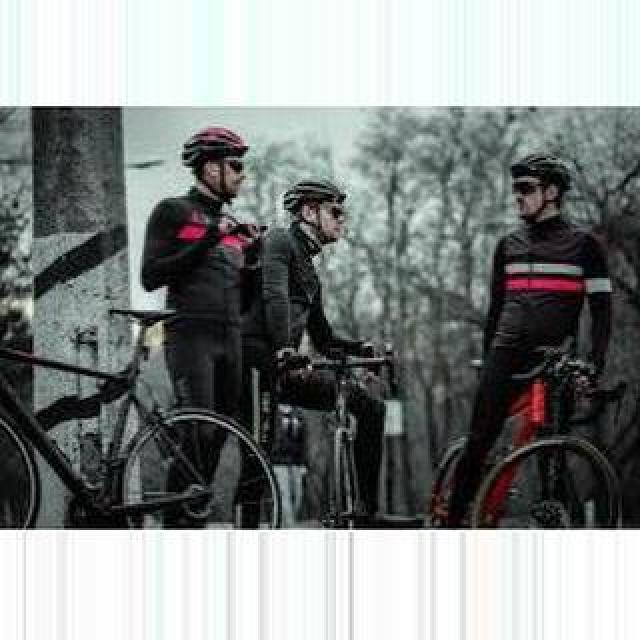MC-Bike: (434, 154, 614, 520), (256, 178, 396, 524), (140, 128, 266, 456)
Person: (12, 311, 276, 527), (434, 339, 630, 527), (272, 349, 394, 527)
